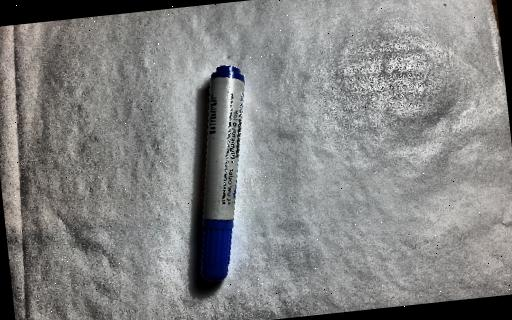marcador azul: (201, 65, 245, 281)
